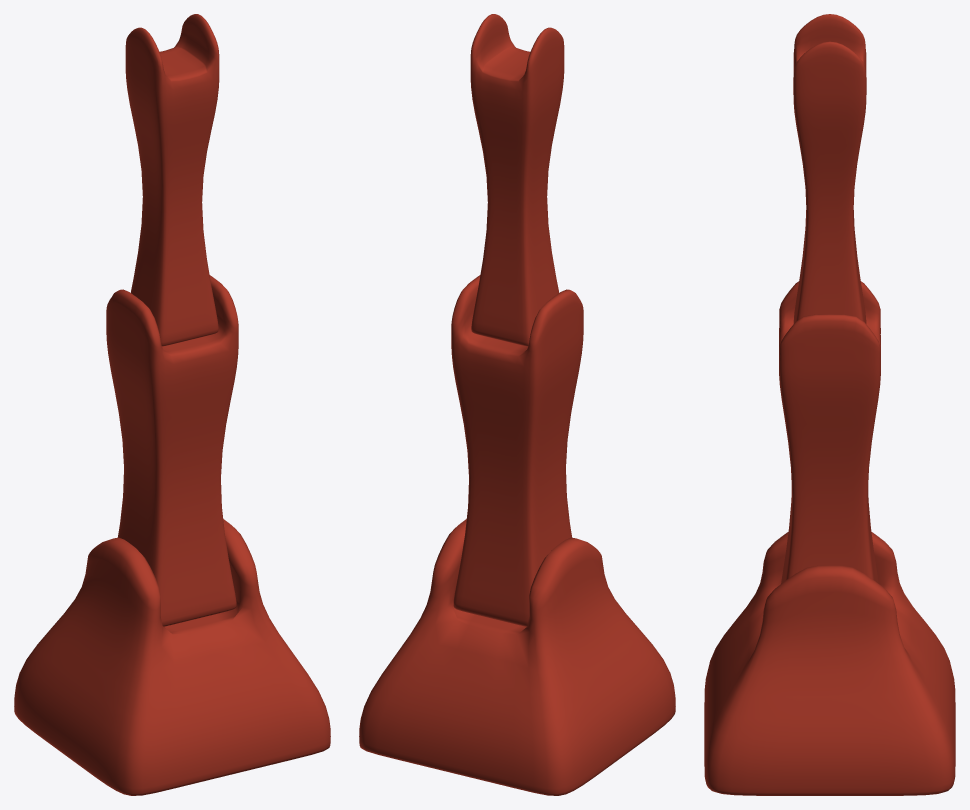
File: RobotBartender.fbx
The picture shows the model from 3 angles, left to right: view 1: azimuth 30°, elevation 25°; view 2: azimuth 150°, elevation 25°; view 3: azimuth 270°, elevation 25°; orthographic projection.
Parts seen in each view (by area): view 1: Cube, Cube.001, Cube.002; view 2: Cube, Cube.001, Cube.002; view 3: Cube, Cube.001, Cube.002.
Part boxes in pixels (x1,y1,x2,y2): Cube: (14,519,330,795); Cube.001: (106,275,238,626); Cube.002: (125,14,219,346); Cube: (359,519,675,795); Cube.001: (451,275,583,626); Cube.002: (470,14,564,346); Cube: (704,532,955,795); Cube.001: (779,281,880,583); Cube.002: (793,14,866,323).
Bounding box in the file's own units: 233 × 733 × 233.
